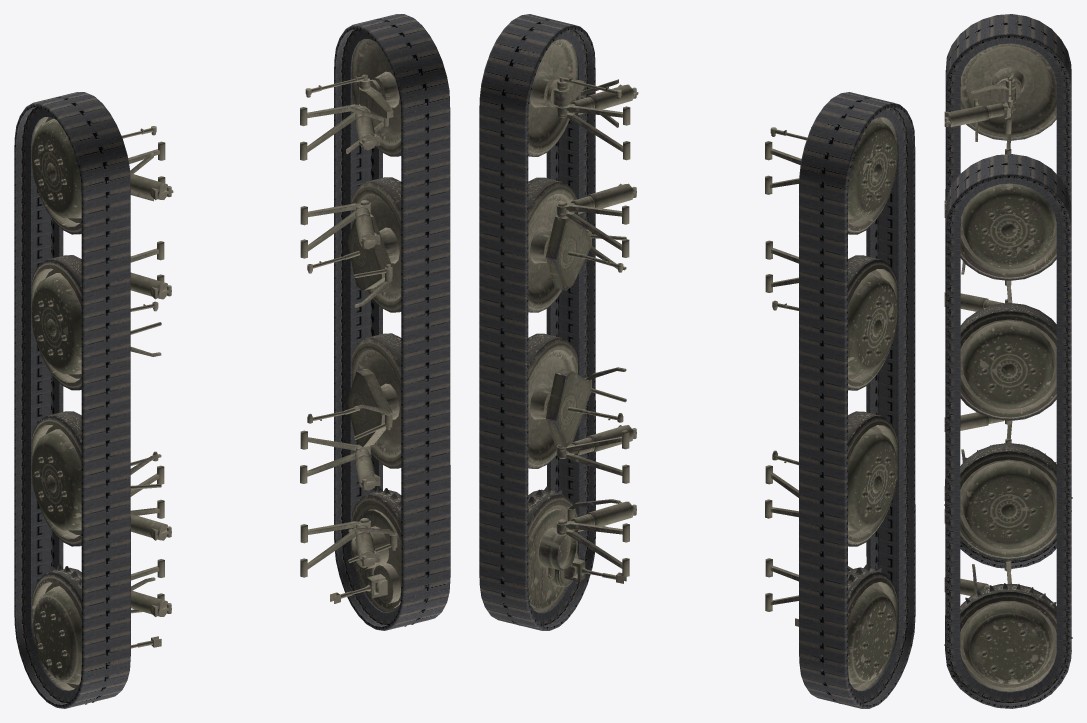
Rendered from Chassis.glb.
3 views of the same model, side by side, from view 1: azimuth 30°, elevation 25°; view 2: azimuth 150°, elevation 25°; view 3: azimuth 270°, elevation 25° (orthographic). The views are drawn at different scales.
Parts seen in each view (by area): view 1: set_0_group_0, set_1_group_0, set_3_group_0, set_2_group_0; view 2: set_0_group_0, set_1_group_0, set_3_group_0, set_2_group_0; view 3: set_3_group_0, set_1_group_0, set_2_group_0, set_0_group_0.
Part boxes in pixels (x1,y1,x2,y2): set_0_group_0: (14, 92, 130, 708); set_1_group_0: (334, 14, 450, 630); set_3_group_0: (300, 39, 428, 626); set_2_group_0: (31, 117, 173, 704); set_0_group_0: (799, 92, 915, 708); set_1_group_0: (479, 14, 595, 630); set_3_group_0: (501, 39, 638, 625); set_2_group_0: (765, 117, 897, 703); set_3_group_0: (944, 183, 1072, 691); set_1_group_0: (945, 154, 1071, 708); set_2_group_0: (944, 43, 1072, 511); set_0_group_0: (945, 14, 1071, 568).
Bounding box in the file's own units: 2.25 × 3.5 × 0.7594.
Materials: 4 (4 with a texture image).
